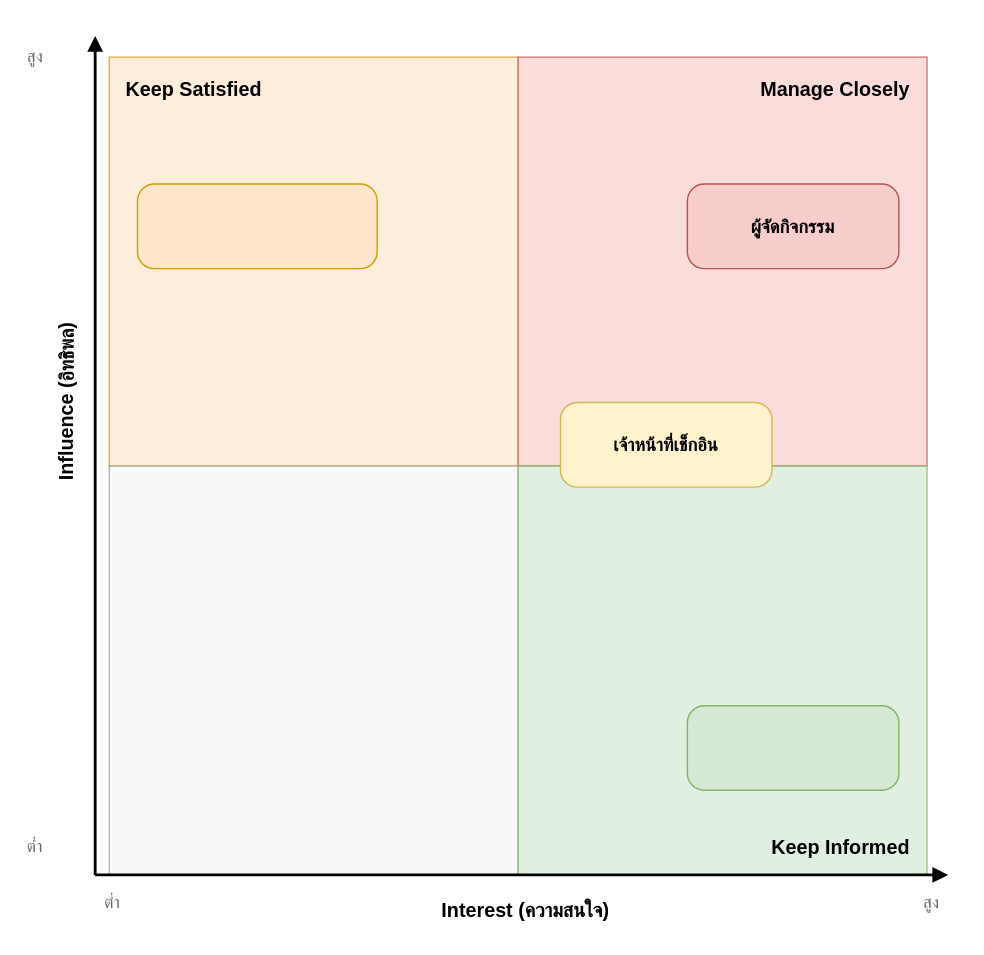
This 984x955 diagram has some shape labels left out. Here are the shapes that lost their labels. From the top down, the centre of each, then its label:
At [256,226]: "อาจารย์/ผู้ดูแลหลักสูตร".
At [313,670]: "Monitor (Minimum Effort)".
At [792,747]: "นักศึกษา (ผู้เข้าร่วม)".
